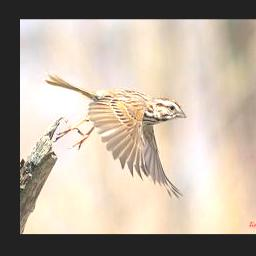Sparrow: (40, 65, 186, 201)
